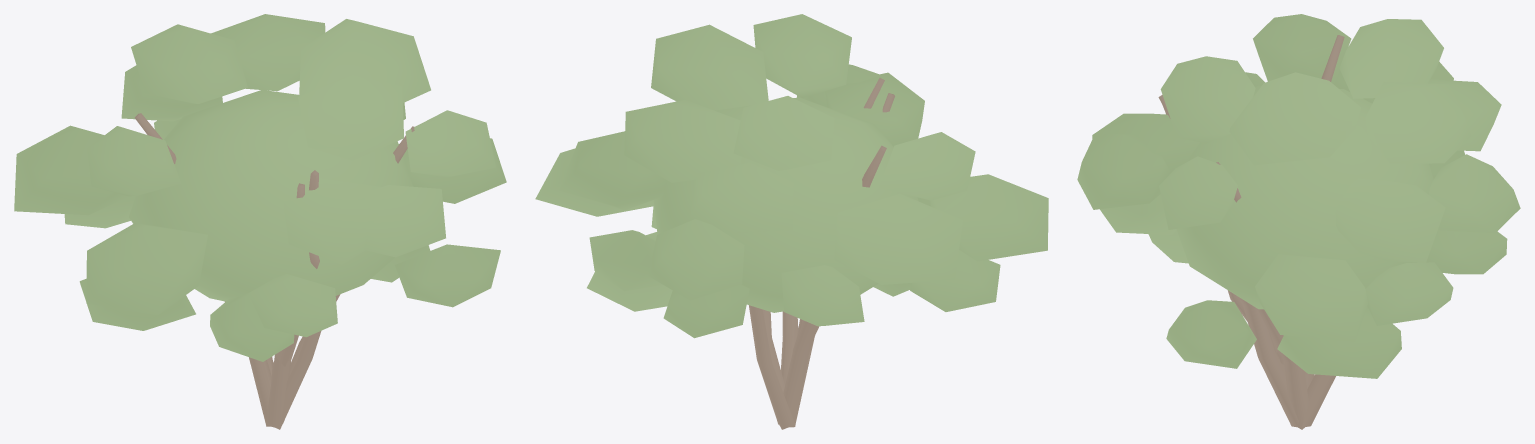
The model's file is Blender_Huckleberry_1.glb.
3 renders of one model, left to right at view 1: azimuth 30°, elevation 25°; view 2: azimuth 150°, elevation 25°; view 3: azimuth 270°, elevation 25°, orthographic. The views are drawn at different scales.
Parts seen in each view (by area): view 1: Blender_Huckleberry_1; view 2: Blender_Huckleberry_1; view 3: Blender_Huckleberry_1.
Boxes of the visible parts, x1,y1,x2,y2 form: Blender_Huckleberry_1: (14, 14, 506, 429); Blender_Huckleberry_1: (535, 14, 1048, 429); Blender_Huckleberry_1: (1077, 14, 1520, 429).
Bounding box in the file's own units: 2.01 × 1.63 × 1.66.
